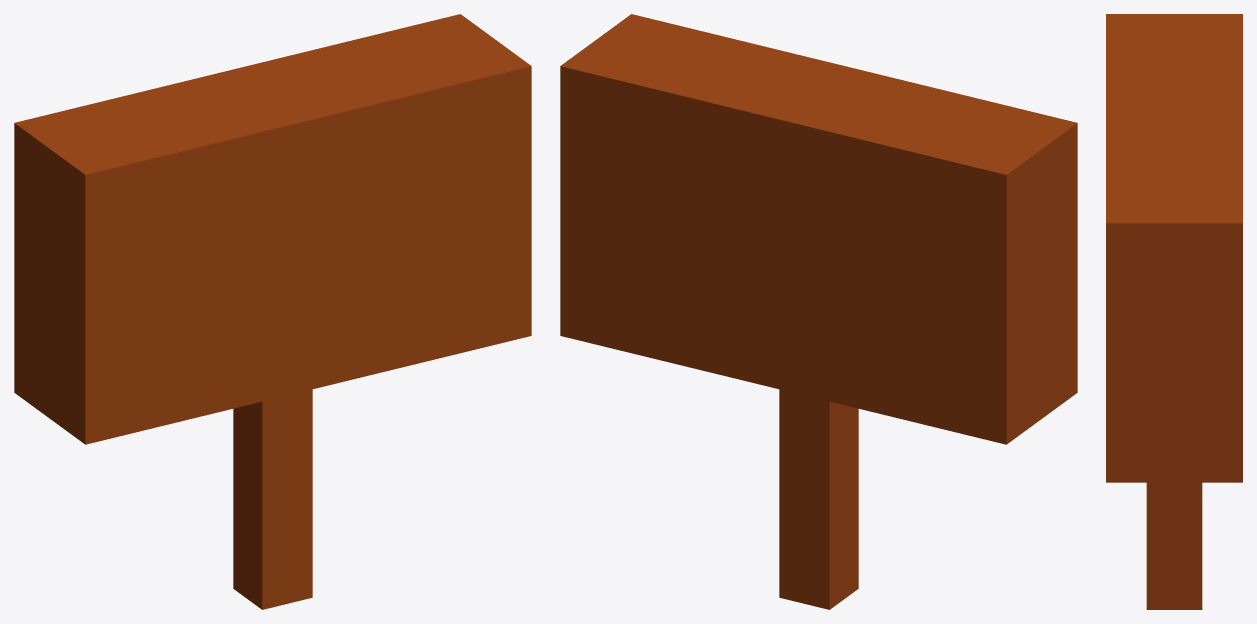
The model's file is sign.dae.
3 views of the same model, side by side, from view 1: azimuth 30°, elevation 25°; view 2: azimuth 150°, elevation 25°; view 3: azimuth 270°, elevation 25° (orthographic). The views are drawn at different scales.
Visible parts, largest first — view 1: Plane; view 2: Plane; view 3: Plane.
Boxes of the visible parts, x1,y1,x2,y2 form: Plane: (14, 14, 531, 609); Plane: (560, 14, 1077, 609); Plane: (1106, 14, 1242, 609).
Bounding box in the file's own units: 2 × 0.5527 × 2.14.
